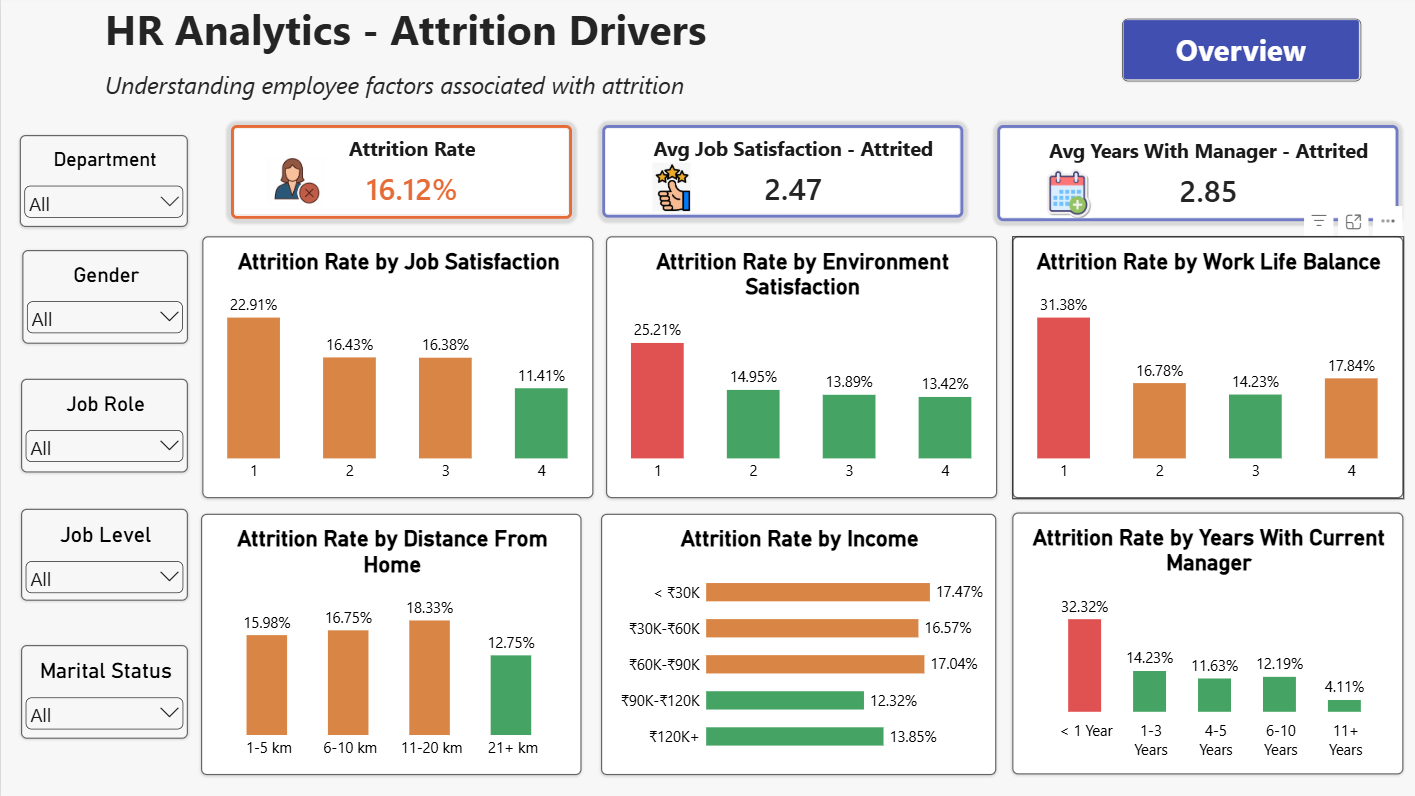

What the dashboard file says about the page in this screenshot:
{"tool":"powerbi","page":{"name":"Attrition Drivers","canvas":[1920,1080],"ordinal":1},"visuals":[{"type":"cardVisual","fields":{"Data":["hr_employee_master.Attrition Rate"]},"box":[312.2,168.6,462.5,126.9],"z":0},{"type":"cardVisual","fields":{"Data":["hr_employee_master.Avg Job Satisfaction - Attrited"]},"box":[814.8,170.3,489.2,125.2],"z":1000},{"type":"textbox","box":[140,0,1095,147.5],"z":2000},{"type":"cardVisual","fields":{"Data":["hr_employee_master.Avg Years With Manager - Attrited"]},"box":[1350.8,168.6,544.3,130.2],"z":3000},{"type":"slicer","title":"Department ","fields":{"Values":["hr_employee_master.Department"]},"box":[25.8,182.2,228.2,125.2],"z":4000},{"type":"slicer","title":"Gender","fields":{"Values":["hr_employee_master.Gender"]},"box":[29.4,338.7,224.5,127],"z":5000},{"type":"slicer","title":"Job Role","fields":{"Values":["hr_employee_master.JobRole"]},"box":[27.6,513.5,226.4,127],"z":6000},{"type":"slicer","title":"Job Level","fields":{"Values":["hr_employee_master.JobLevel"]},"box":[27.6,690.2,226.4,125.2],"z":7000},{"type":"slicer","title":"Marital Status","fields":{"Values":["hr_employee_master.MaritalStatus"]},"box":[27.6,874.2,226.4,127],"z":8000},{"type":"image","box":[352.3,212.1,94,66],"z":9000},{"type":"image","box":[857.7,220,103.1,66.3],"z":10000},{"type":"image","box":[1398,228,94,66],"z":11000},{"type":"columnChart","title":"Attrition Rate by Job Satisfaction ","fields":{"Category":["hr_employee_master.JobSatisfaction"],"Y":["hr_employee_master.Attrition Rate"]},"box":[272.4,320.2,530.1,355.2],"z":13000},{"type":"columnChart","title":"Attrition Rate by Environment Satisfaction ","fields":{"Category":["hr_employee_master.EnvironmentSatisfaction"],"Y":["hr_employee_master.Attrition Rate"]},"box":[820.9,320.2,530.1,355.2],"z":14000},{"type":"columnChart","title":"Attrition Rate by Work Life Balance","fields":{"Category":["hr_employee_master.WorkLifeBalance"],"Y":["hr_employee_master.Attrition Rate"]},"box":[1371.2,320.2,530.1,355.2],"z":15000},{"type":"columnChart","title":"Attrition Rate by Distance From Home","fields":{"Category":["hr_employee_master.Distance Group"],"Y":["hr_employee_master.Attrition Rate"]},"box":[272,696,516,354],"z":16000},{"type":"clusteredBarChart","title":"Attrition Rate by Income","fields":{"Category":["hr_employee_master.Income Group"],"Y":["hr_employee_master.Attrition Rate"]},"box":[814,696,536,354],"z":17000},{"type":"columnChart","title":"Attrition Rate by Years With Current Manager","fields":{"Category":["hr_employee_master.Manager Tenure Group"],"Y":["hr_employee_master.Attrition Rate"]},"box":[1371.2,695.7,530.1,355.2],"z":18000},{"type":"pageNavigator","box":[1520.3,25.8,323.9,84.7],"z":19000}]}

Visuals, with their boxes in screenshot pixels (x1, y1, x2, y2), scaled from the page's 1920x1080 canvas onto the 1415x796 screenshot:
cardVisual - hr_employee_master.Attrition Rate: <region>230, 124, 571, 218</region>
cardVisual - hr_employee_master.Avg Job Satisfaction - Attrited: <region>600, 126, 961, 218</region>
textbox: <region>103, 0, 910, 109</region>
cardVisual - hr_employee_master.Avg Years With Manager - Attrited: <region>996, 124, 1397, 220</region>
"Department " slicer: <region>19, 134, 187, 227</region>
"Gender" slicer: <region>22, 250, 187, 343</region>
"Job Role" slicer: <region>20, 378, 187, 472</region>
"Job Level" slicer: <region>20, 509, 187, 601</region>
"Marital Status" slicer: <region>20, 644, 187, 738</region>
image: <region>260, 156, 329, 205</region>
image: <region>632, 162, 708, 211</region>
image: <region>1030, 168, 1100, 217</region>
"Attrition Rate by Job Satisfaction " columnChart: <region>201, 236, 591, 498</region>
"Attrition Rate by Environment Satisfaction " columnChart: <region>605, 236, 996, 498</region>
"Attrition Rate by Work Life Balance" columnChart: <region>1011, 236, 1401, 498</region>
"Attrition Rate by Distance From Home" columnChart: <region>200, 513, 581, 774</region>
"Attrition Rate by Income" clusteredBarChart: <region>600, 513, 995, 774</region>
"Attrition Rate by Years With Current Manager" columnChart: <region>1011, 513, 1401, 775</region>
pageNavigator: <region>1120, 19, 1359, 81</region>
